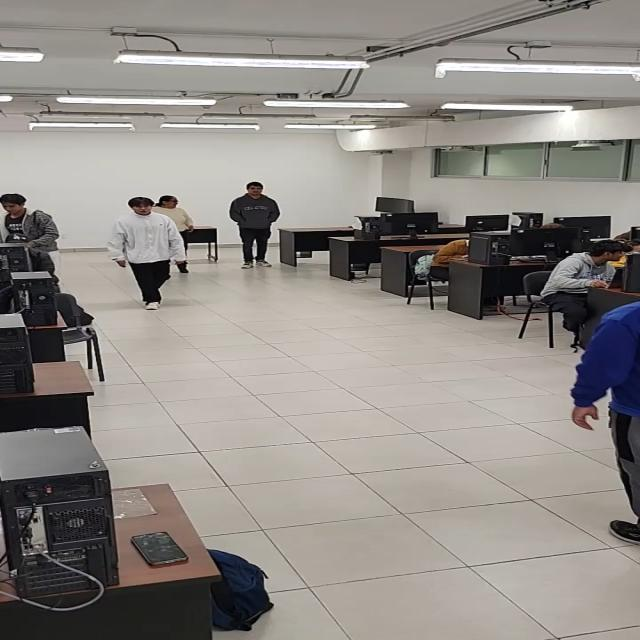Persona: (573, 304, 640, 546), (105, 197, 188, 310), (230, 182, 281, 270), (150, 195, 195, 273)
